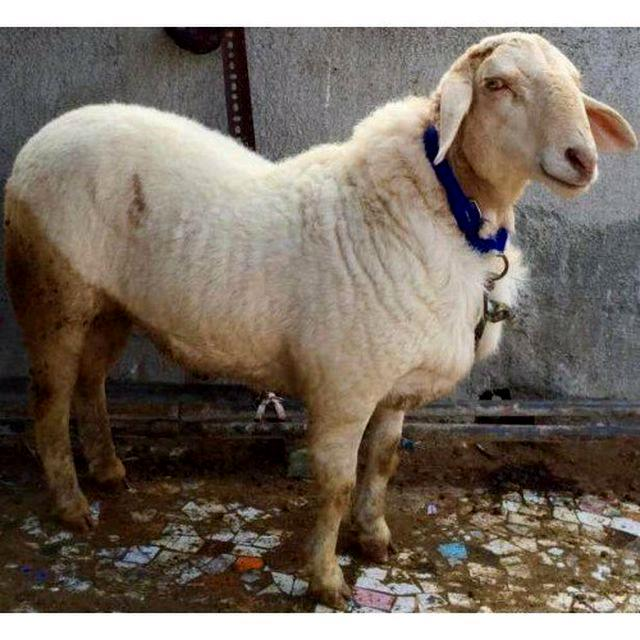sheep: (4, 35, 635, 613)
